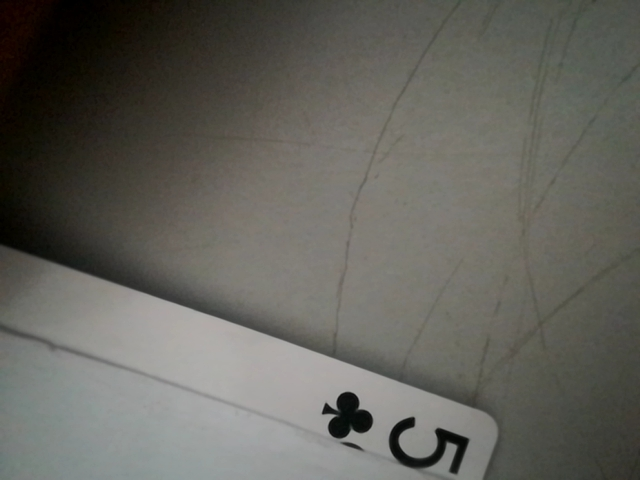mh 5: (314, 384, 482, 477)
